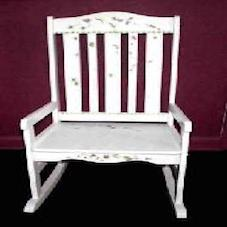chair: (17, 8, 203, 219)
